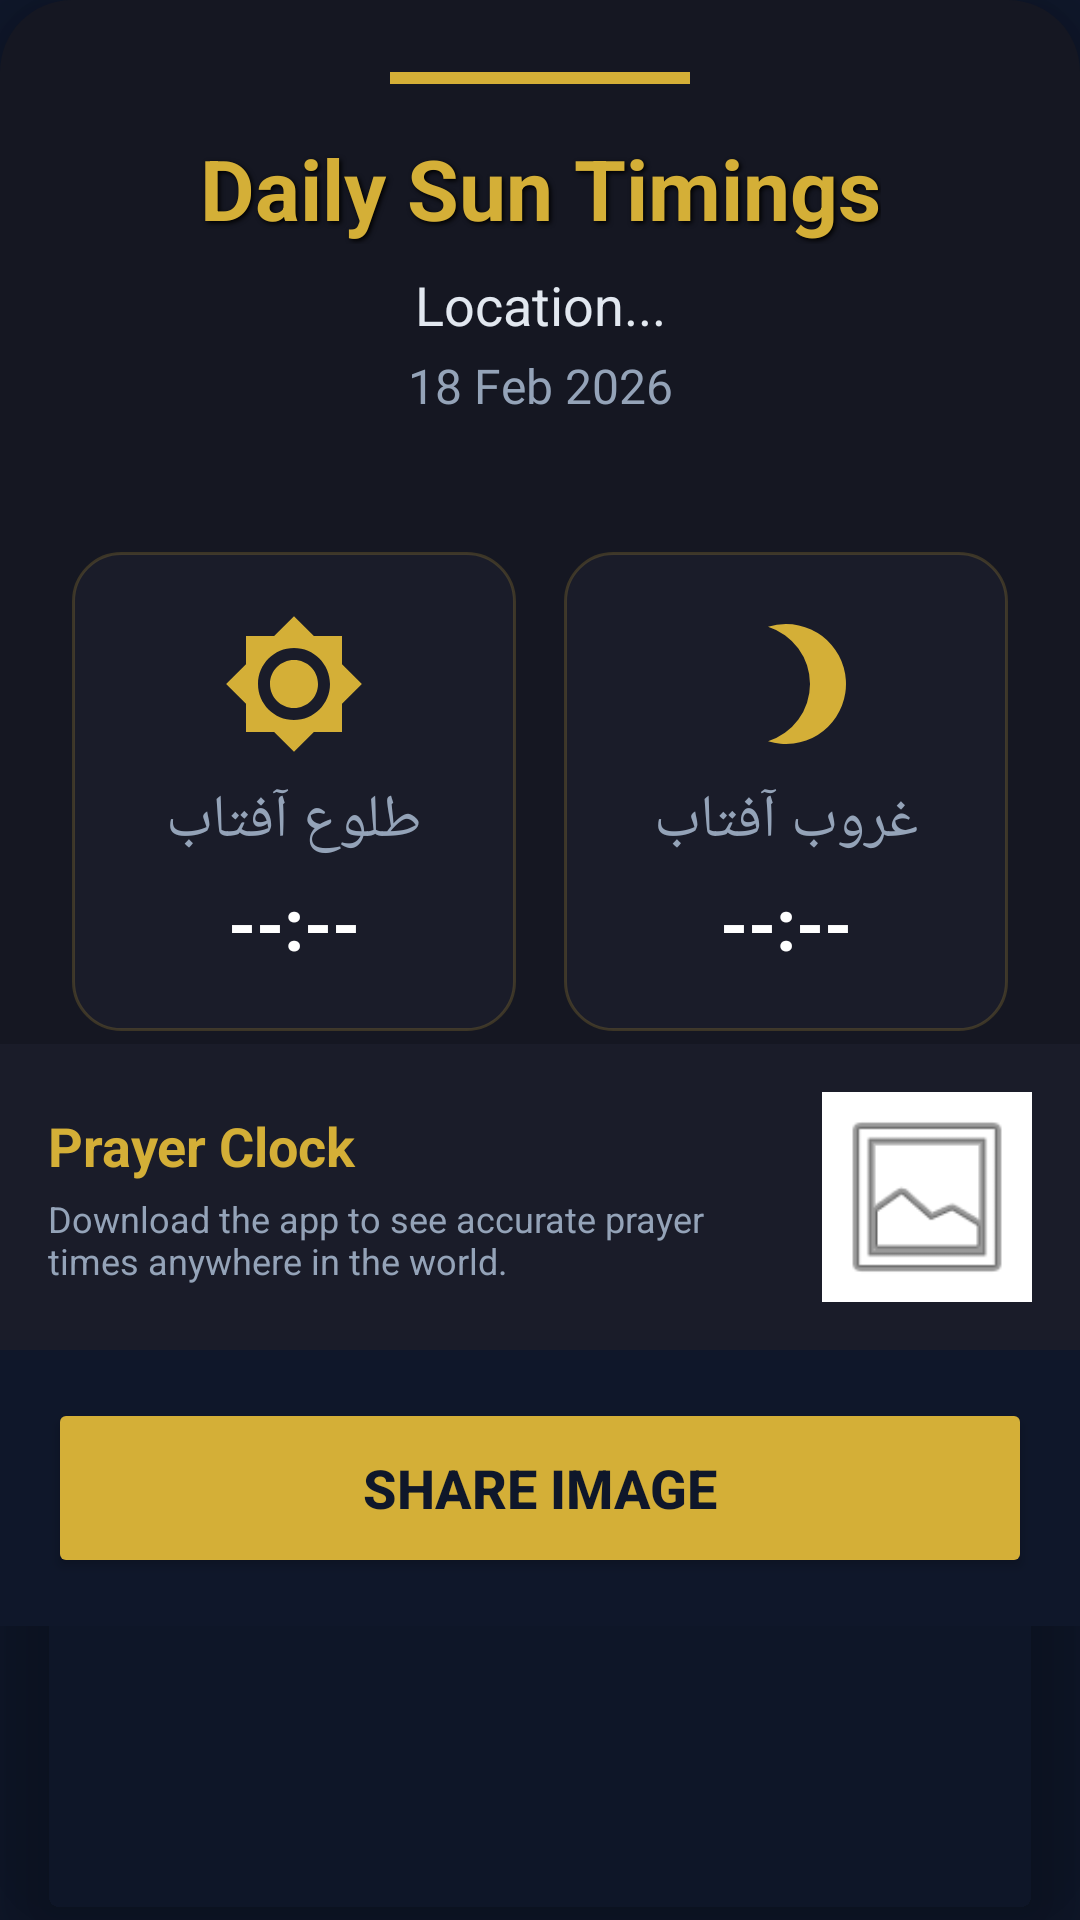

Where to tap for icons on this 1080 x 1920 app screen, as point (x, y):
gallery: point (927, 1197)
iftar: point (807, 684)
sehr: point (294, 684)
